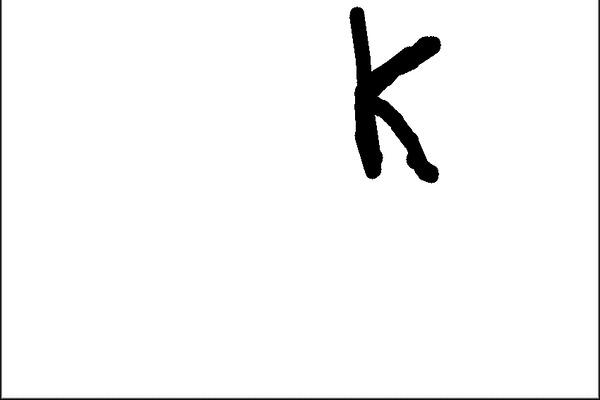K: (340, 1, 448, 189)
